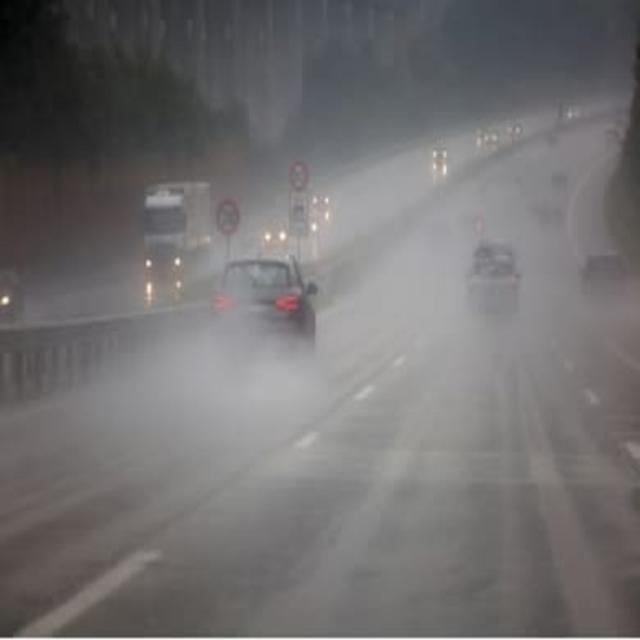bus: (144, 183, 212, 281)
car: (212, 254, 316, 364), (465, 253, 519, 310), (583, 249, 633, 309), (1, 270, 24, 323), (262, 214, 287, 247), (312, 188, 332, 209), (432, 142, 448, 161)
